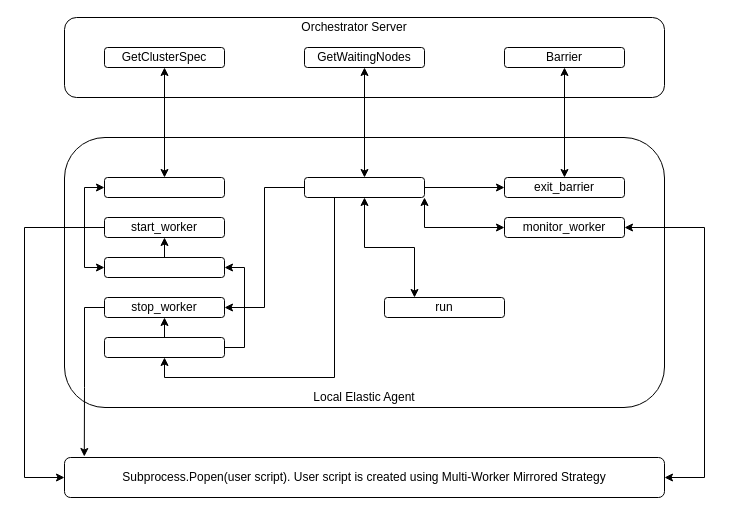
This 731x515 diagram has some shape labels left out. Each missing label, with the centre of its shape:
_invoke_run: the point at 364,187
initialize_worker: the point at 164,267
rendezvouz: the point at 164,187
restart_worker: the point at 164,347
